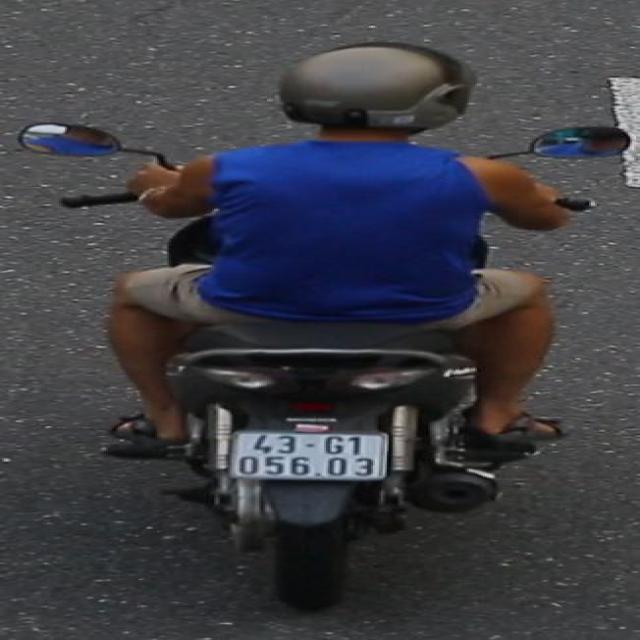LP: (219, 418, 399, 484)
helmet: (261, 34, 501, 162)
